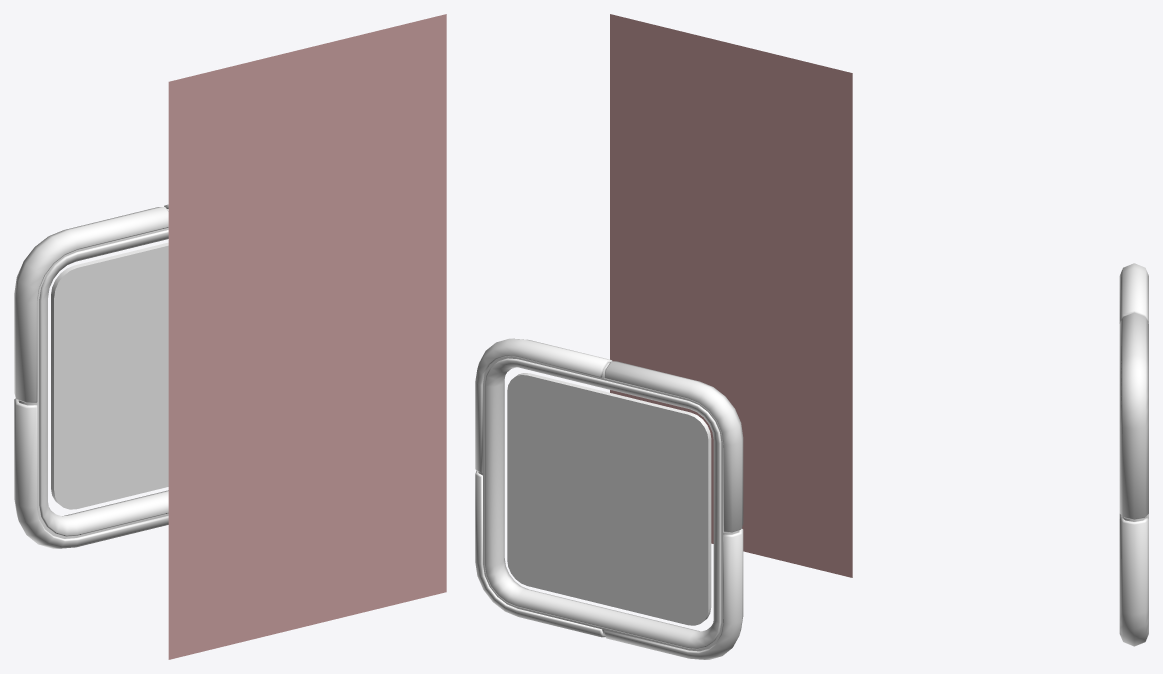
The model's file is MaxExportedFBXFile.fbx.
The picture shows the model from 3 angles, left to right: view 1: azimuth 30°, elevation 25°; view 2: azimuth 150°, elevation 25°; view 3: azimuth 270°, elevation 25°; orthographic projection. The views are drawn at different scales.
Parts seen in each view (by area): view 1: Box001, Sign01; view 2: Box001, Sign01; view 3: Sign01.
Part boxes in pixels (left/top/right/bottom): Box001: left=168, top=14, right=446, bottom=659; Sign01: left=14, top=204, right=168, bottom=548; Box001: left=610, top=14, right=852, bottom=577; Sign01: left=475, top=338, right=743, bottom=659; Sign01: left=1119, top=263, right=1148, bottom=646.
Bounding box in the file's own units: 100 × 182 × 84.49.
